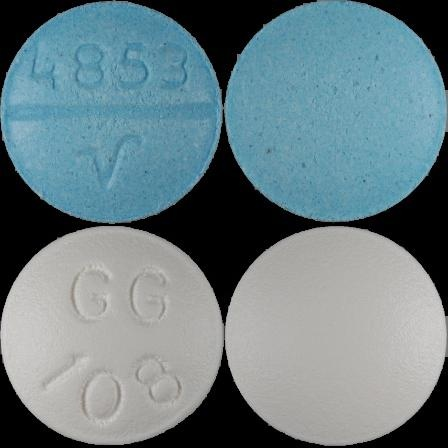21695-406: (0, 0, 224, 224)
